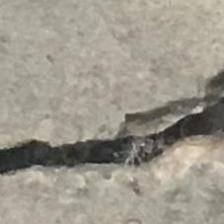Crack: (0, 66, 224, 188)
